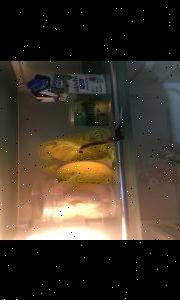Ajo: (61, 190, 99, 212)
Guacamole: (74, 98, 111, 124)
Limón: (58, 160, 112, 183)
Nata: (30, 72, 103, 100)
